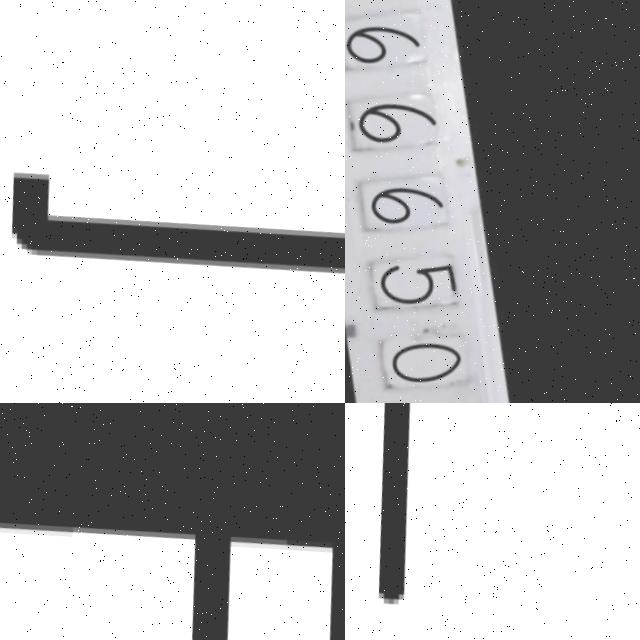0: (370, 325, 472, 400)
5: (361, 245, 463, 321)
6: (345, 82, 446, 158), (353, 167, 452, 243), (345, 4, 431, 82)
E: (0, 403, 345, 640)
J: (0, 143, 345, 317)
L: (345, 403, 640, 640)
